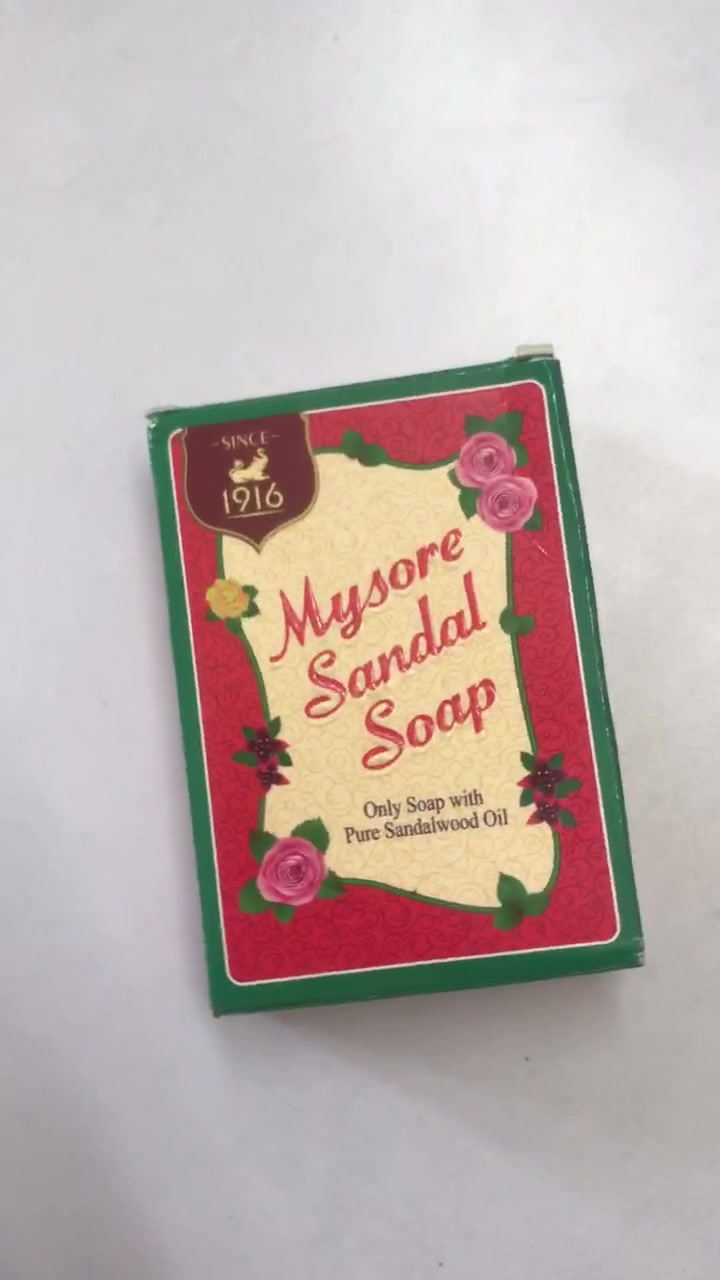mysore sandal soap: (137, 346, 645, 1020)
